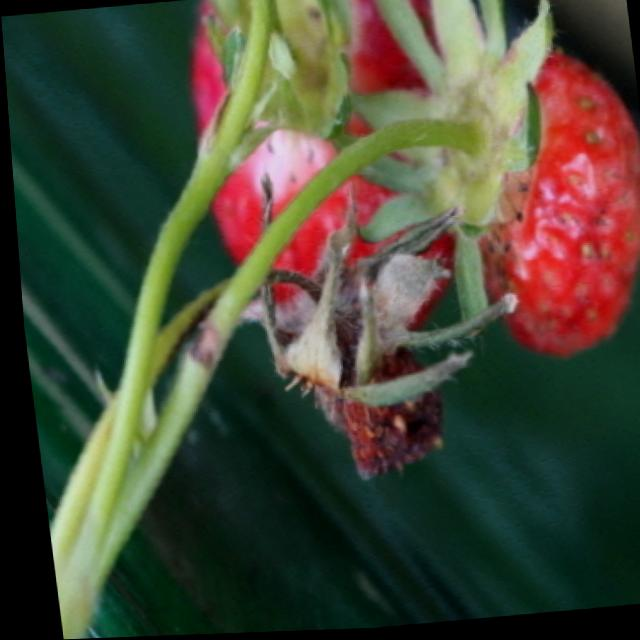Gray Mold: (240, 205, 514, 483)
